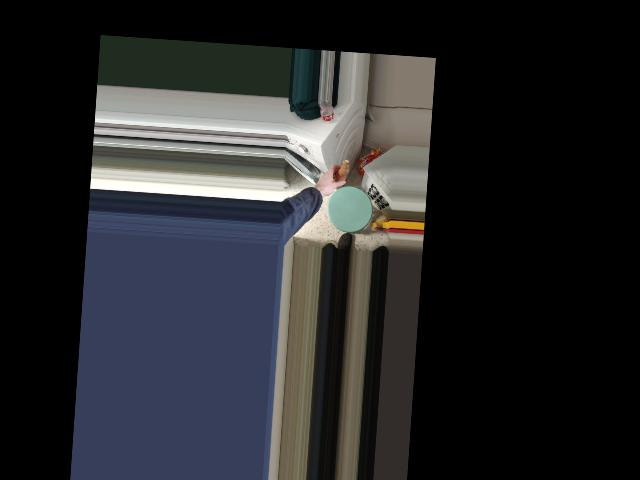sweet_potato: (326, 159, 349, 196)
